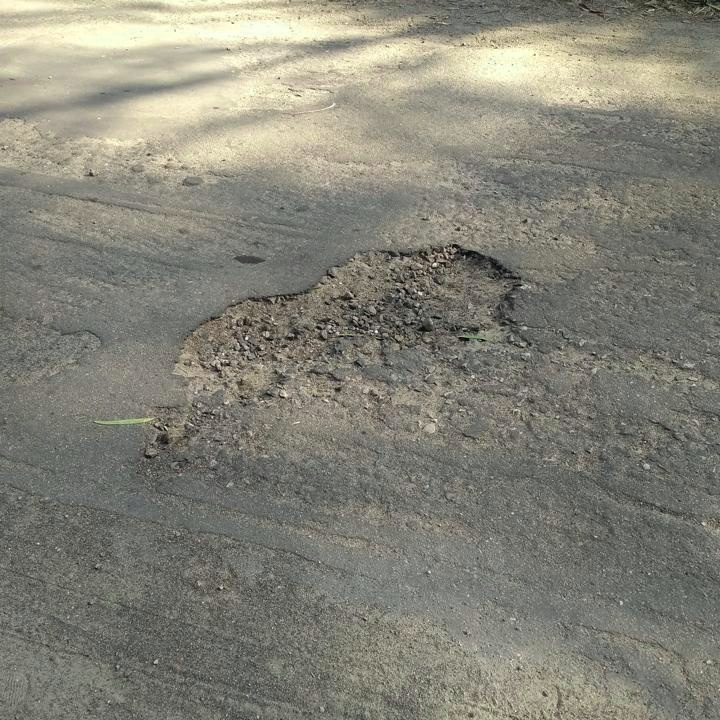pothole: (166, 238, 529, 402)
